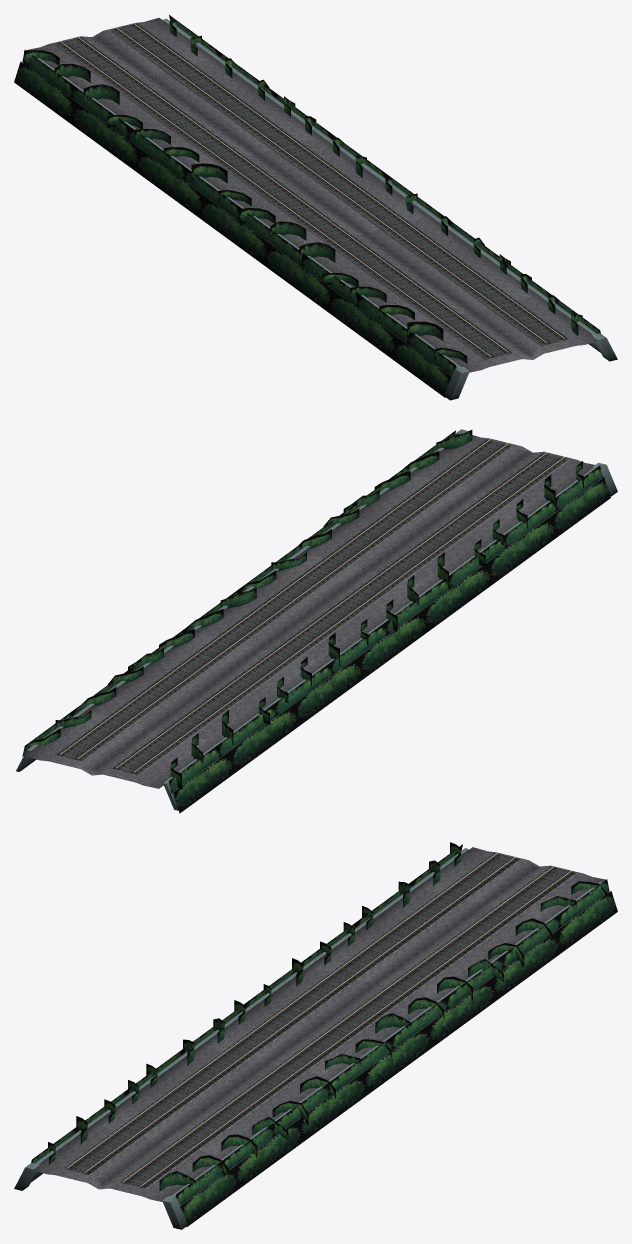
File: 2RAIL_JARI_GLASS.glb
The picture shows the model from 3 angles, top to bottom: view 1: azimuth 30°, elevation 25°; view 2: azimuth 150°, elevation 25°; view 3: azimuth 330°, elevation 25°; orthographic projection.
Visible parts, largest first — view 1: obj5, obj1, obj2, obj4, obj8, obj9, obj11, obj6, obj7, obj3; view 2: obj5, obj2, obj8, obj4, obj9, obj1, obj6, obj11, obj7; view 3: obj5, obj2, obj8, obj4, obj9, obj6, obj7, obj1, obj11, obj3.
Boxes of the visible parts, left/top/right/bottom form: obj5: left=14, top=15, right=600, bottom=397; obj1: left=239, top=178, right=417, bottom=240; obj2: left=191, top=137, right=366, bottom=205; obj4: left=299, top=216, right=484, bottom=286; obj8: left=407, top=295, right=582, bottom=363; obj9: left=83, top=58, right=269, bottom=128; obj11: left=24, top=20, right=201, bottom=82; obj6: left=350, top=254, right=531, bottom=320; obj7: left=135, top=96, right=316, bottom=162; obj3: left=443, top=333, right=617, bottom=400; obj5: left=16, top=430, right=610, bottom=813; obj2: left=189, top=587, right=368, bottom=666; obj8: left=404, top=430, right=583, bottom=508; obj4: left=298, top=508, right=485, bottom=587; obj9: left=82, top=666, right=269, bottom=744; obj1: left=246, top=552, right=418, bottom=631; obj6: left=343, top=471, right=527, bottom=545; obj11: left=30, top=710, right=202, bottom=789; obj7: left=128, top=628, right=311, bottom=702; obj5: left=31, top=844, right=617, bottom=1226; obj2: left=263, top=958, right=444, bottom=1033; obj8: left=48, top=1116, right=228, bottom=1191; obj4: left=146, top=1039, right=335, bottom=1125; obj9: left=362, top=881, right=551, bottom=967; obj6: left=104, top=1080, right=288, bottom=1158; obj7: left=320, top=922, right=503, bottom=1000; obj1: left=213, top=1000, right=391, bottom=1069; obj11: left=429, top=842, right=607, bottom=911; obj3: left=14, top=1162, right=187, bottom=1229.
Size of the model in its own units: 44.93 by 10.31 by 205.
23 materials, 22 textured.
